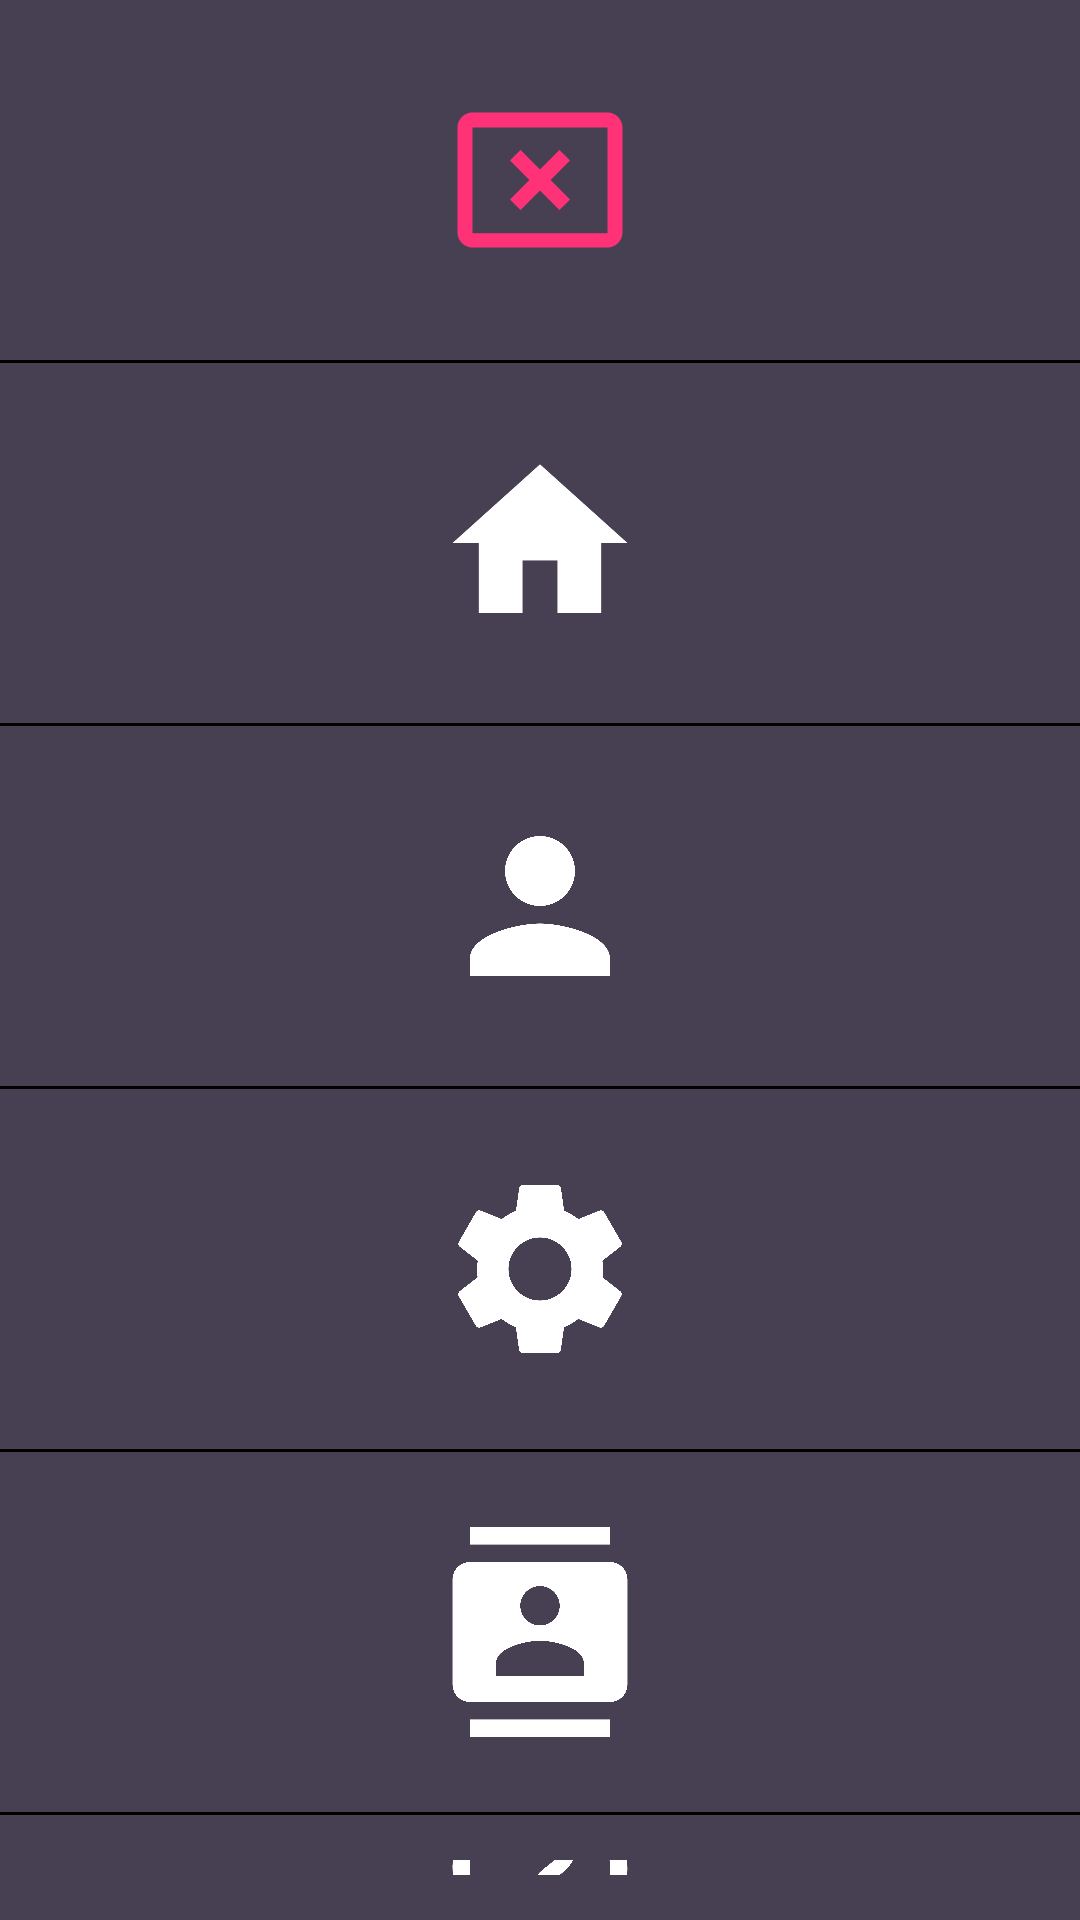

Screen size 1080 x 1920. Icon name, then its box in pixels as (x1, y1, x2, y2):
cancel presentation: (457, 112, 623, 248)
contacts: (452, 1527, 628, 1737)
home: (453, 464, 627, 613)
person: (470, 836, 610, 976)
settings: (458, 1185, 622, 1353)
